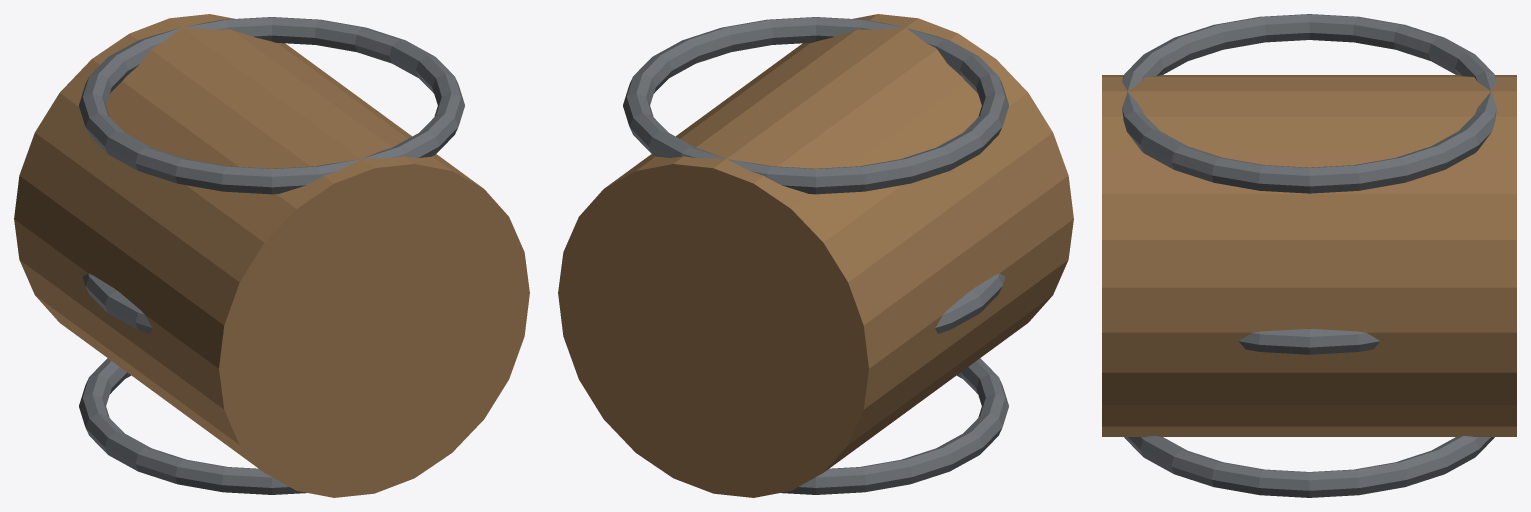
Rendered from barrel.glb.
3 views of the same model, side by side, from view 1: azimuth 30°, elevation 25°; view 2: azimuth 150°, elevation 25°; view 3: azimuth 270°, elevation 25° (orthographic).
Visible parts, largest first — view 1: wood, ring_2, ring_0, ring_1; view 2: wood, ring_2, ring_0, ring_1; view 3: wood, ring_2, ring_0, ring_1.
Boxes of the visible parts, <box> form: wood: <box>14,14,529,497</box>; ring_2: <box>79,17,464,194</box>; ring_0: <box>79,358,306,494</box>; ring_1: <box>82,273,152,333</box>; wood: <box>558,14,1073,497</box>; ring_2: <box>623,17,1008,194</box>; ring_0: <box>781,358,1008,494</box>; ring_1: <box>935,273,1005,333</box>; wood: <box>1102,75,1516,436</box>; ring_2: <box>1122,14,1496,193</box>; ring_0: <box>1124,436,1494,497</box>; ring_1: <box>1238,329,1380,354</box>.
Size of the model in its own units: 0.99 by 0.92 by 1.05.
